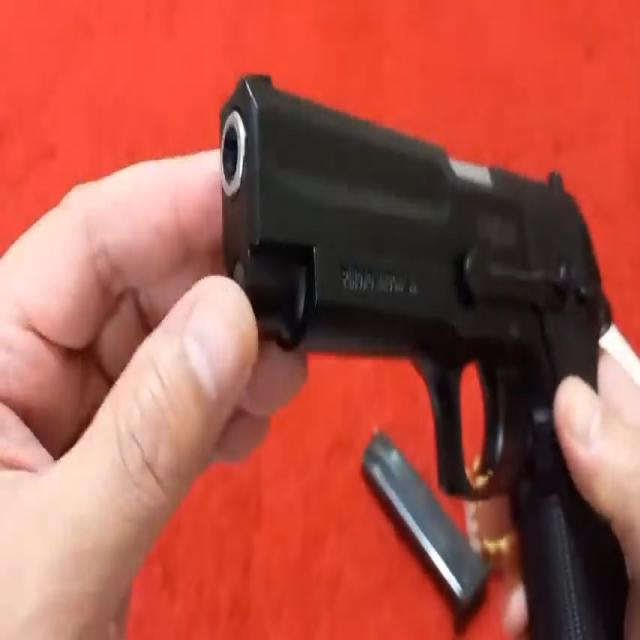handgun: (216, 51, 627, 636)
